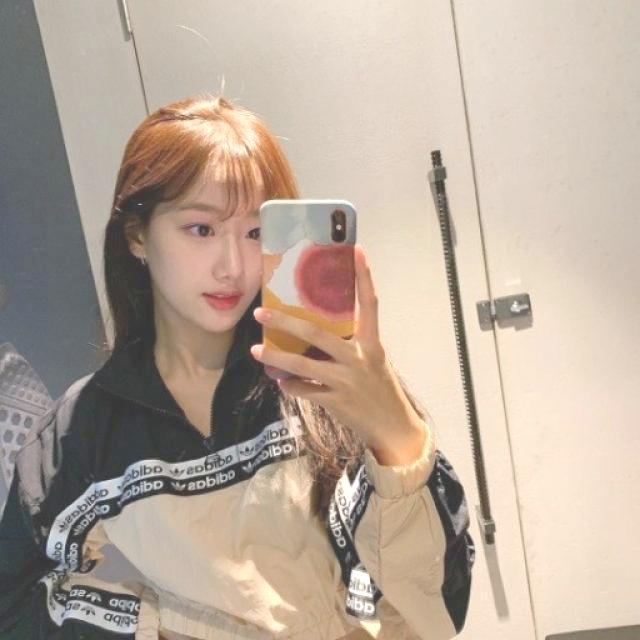lens: (330, 210, 351, 243)
phone: (259, 198, 357, 378)
